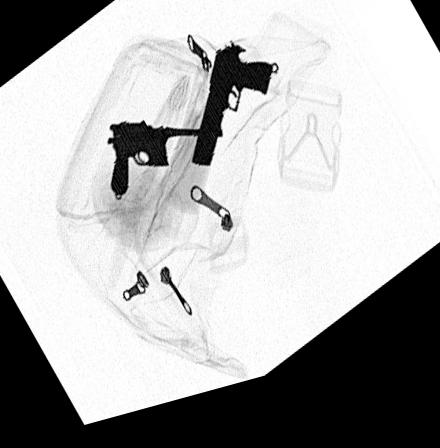Gun: (191, 56, 272, 177), (103, 126, 223, 202)
